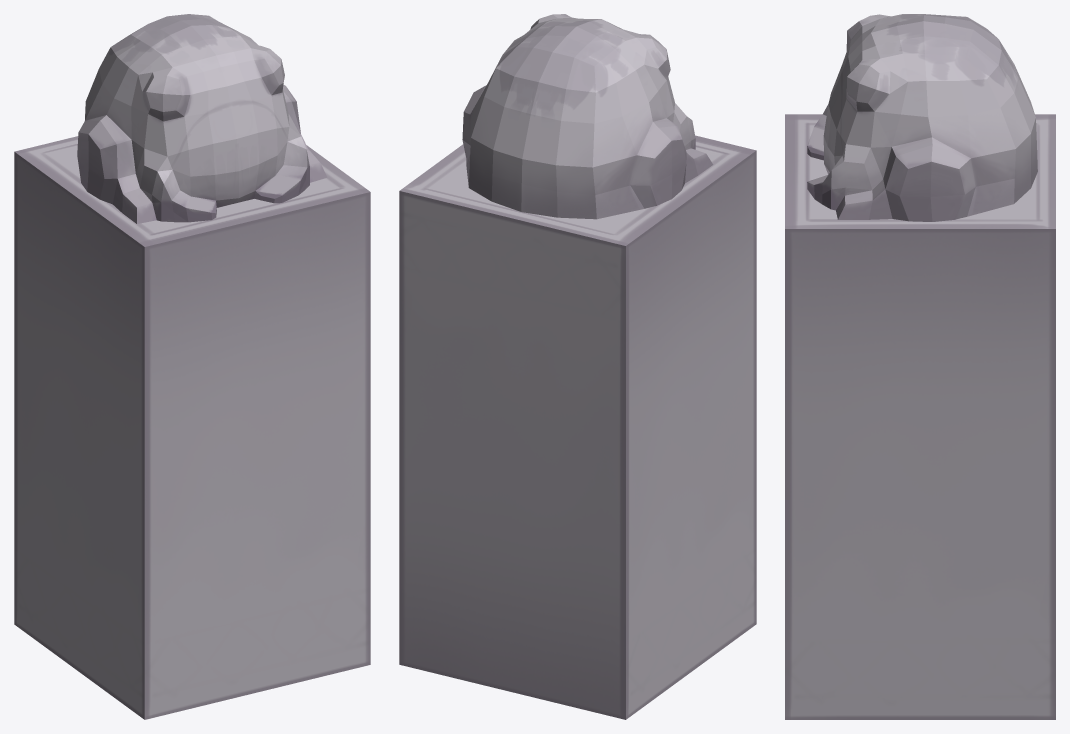
Rendered from frogStatue_MESH.fbx.
3 views of the same model, side by side, from view 1: azimuth 30°, elevation 25°; view 2: azimuth 150°, elevation 25°; view 3: azimuth 270°, elevation 25° (orthographic). The views are drawn at different scales.
Visible parts, largest first — view 1: frogStatue_MESH; view 2: frogStatue_MESH; view 3: frogStatue_MESH.
Part boxes in pixels (bbox=[...]): frogStatue_MESH: bbox=[14, 14, 370, 719]; frogStatue_MESH: bbox=[399, 14, 756, 719]; frogStatue_MESH: bbox=[785, 14, 1055, 719].
Size of the model in its own units: 50 by 131 by 50.
